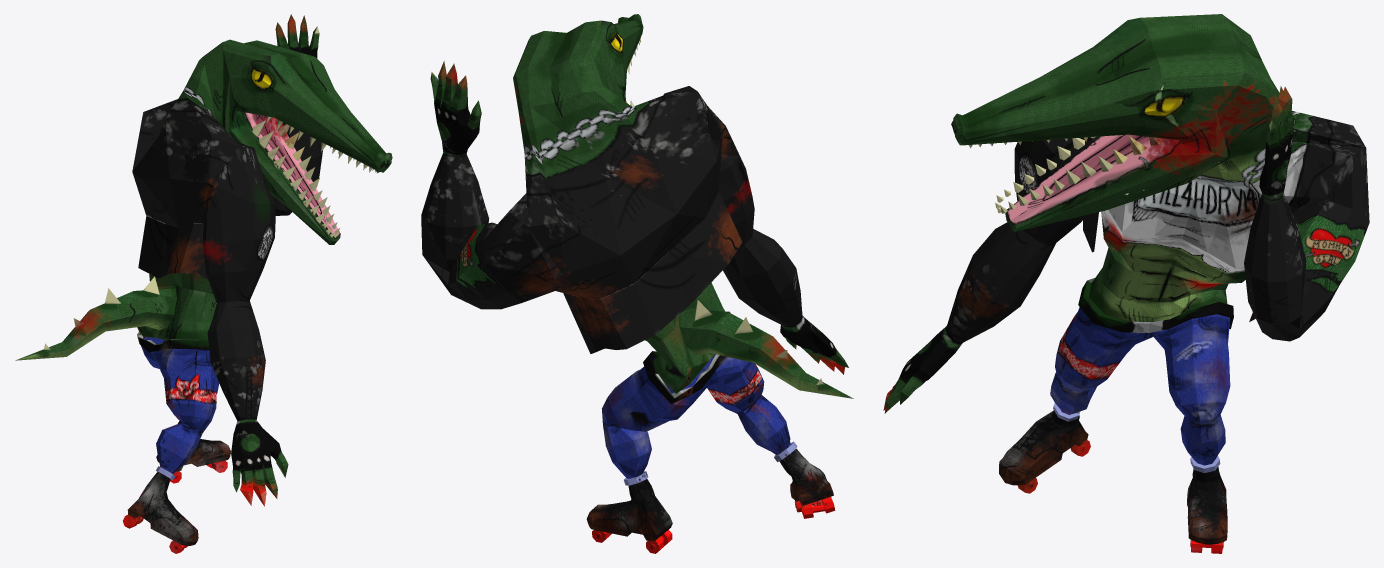
The model's file is cocodrilaBonesSelect_000000.obj.
3 renders of one model, left to right at view 1: azimuth 30°, elevation 25°; view 2: azimuth 150°, elevation 25°; view 3: azimuth 270°, elevation 25°, orthographic. The views are drawn at different scales.
Parts seen in each view (by area): view 1: Crocodile.002_Cylinder.002; view 2: Crocodile.002_Cylinder.002; view 3: Crocodile.002_Cylinder.002.
Boxes of the visible parts, x1,y1,x2,y2 form: Crocodile.002_Cylinder.002: [15, 14, 392, 553]; Crocodile.002_Cylinder.002: [421, 14, 853, 553]; Crocodile.002_Cylinder.002: [883, 14, 1369, 553].
Size of the model in its own units: 5.12 by 6.16 by 4.87.
